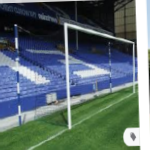goals: (36, 20, 137, 128)
